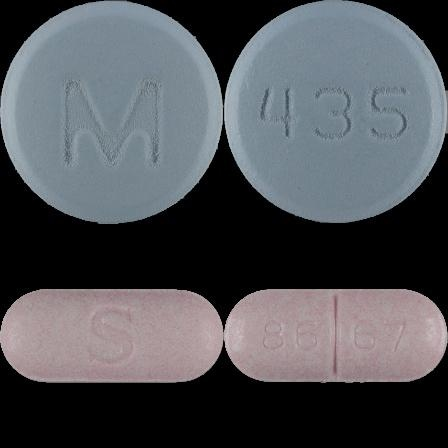55289-733: (0, 0, 224, 224)
